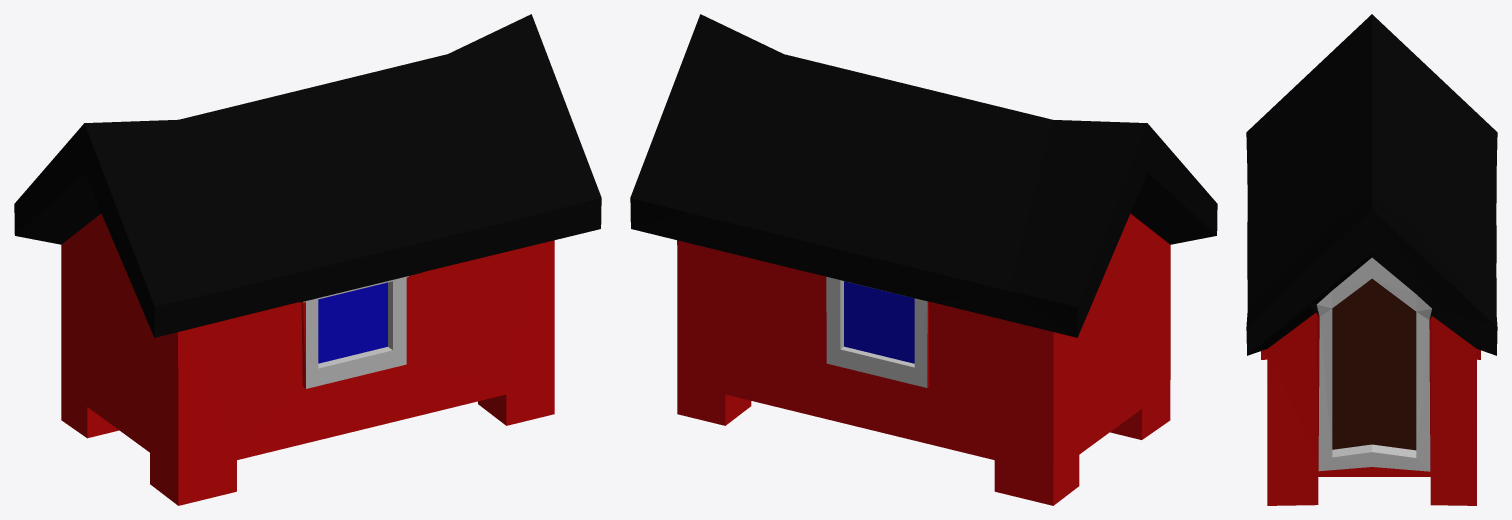
Rendered from Farm_Stabbur_2.fbx.
3 views of the same model, side by side, from view 1: azimuth 30°, elevation 25°; view 2: azimuth 150°, elevation 25°; view 3: azimuth 270°, elevation 25° (orthographic). The views are drawn at different scales.
Parts seen in each view (by area): view 1: Farm_Stabbur_2; view 2: Farm_Stabbur_2; view 3: Farm_Stabbur_2.
Part boxes in pixels (left/top/right/bottom): Farm_Stabbur_2: left=14, top=14, right=601, bottom=505; Farm_Stabbur_2: left=630, top=14, right=1217, bottom=505; Farm_Stabbur_2: left=1246, top=14, right=1497, bottom=505.
Bounding box in the file's own units: 486 × 362 × 264.
